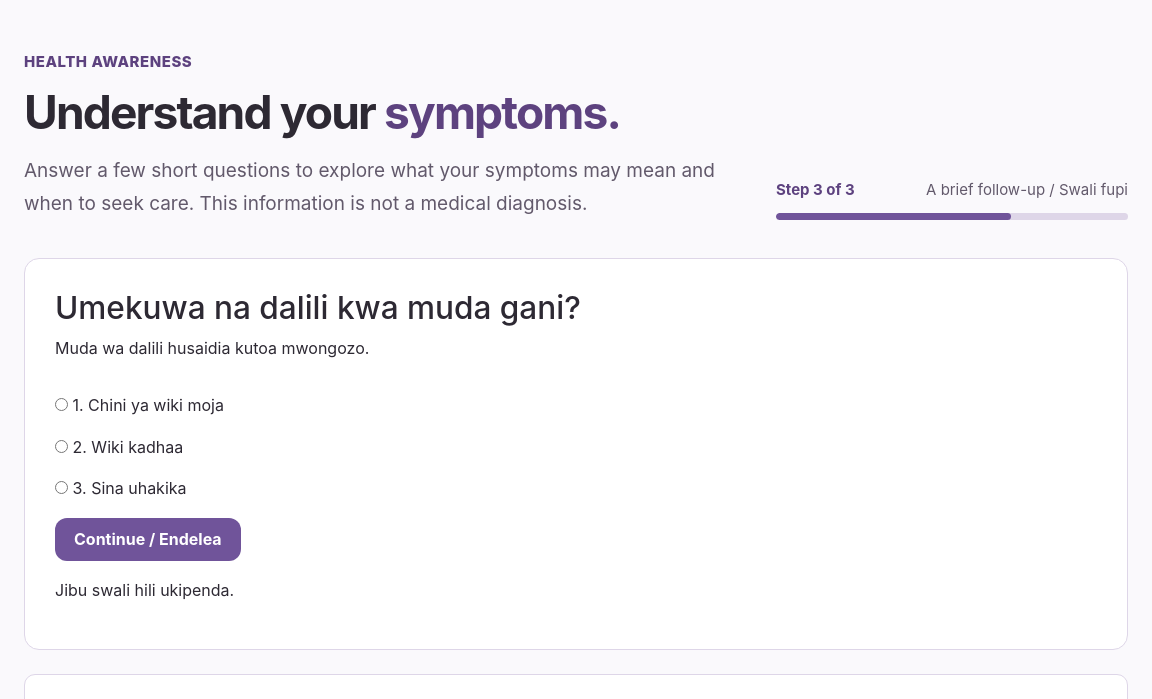
Test: Targeted assessment follow-ups › turns follow-up answers into a backend selected possibility and practical next steps
Click the radio button labelled "1. Chini ya wiki moja" at (62, 405), box x1=55 y1=398 x2=68 y2=411
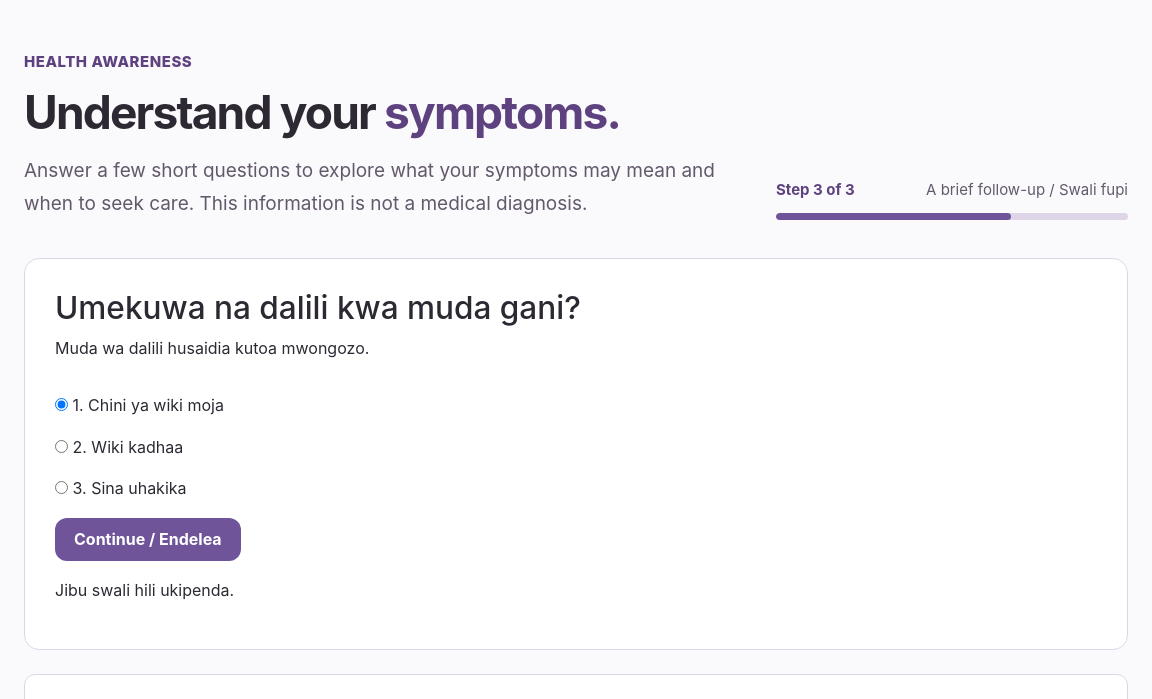
Click the button "Continue / Endelea" at (148, 539), box x1=55 y1=518 x2=241 y2=561
(page scrolled)
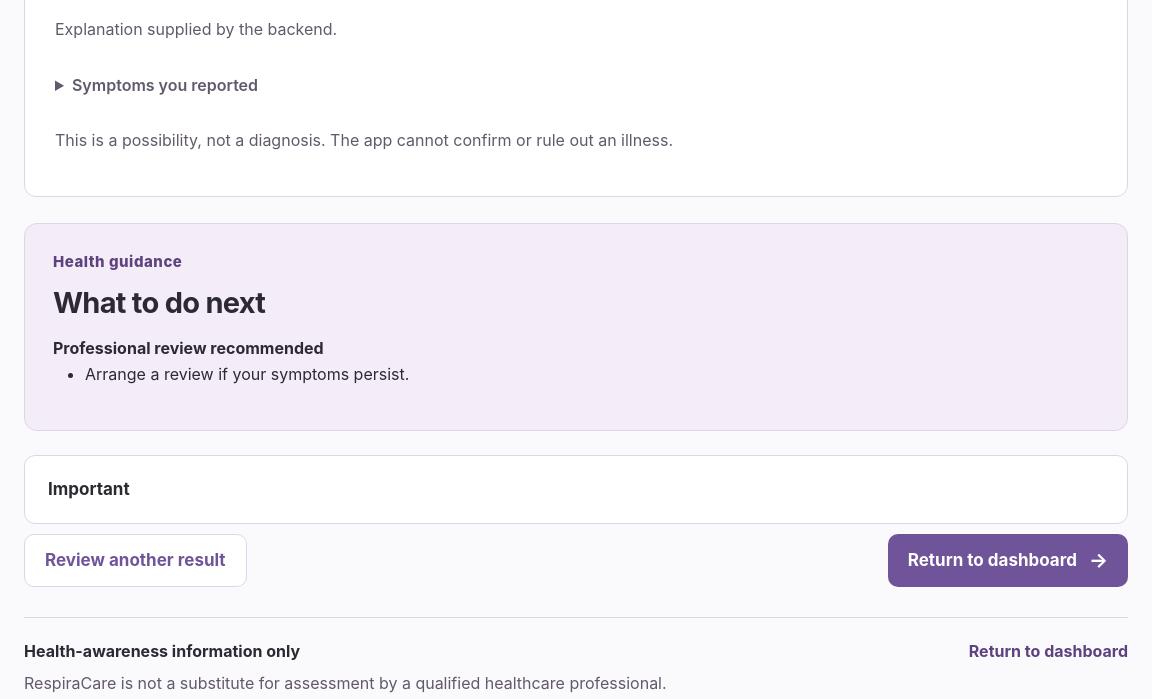
Expected: the list item "Arrange a review if your symptoms persist." is shown, x1=85 y1=364 x2=409 y2=384
Expected: the text "Professional review recommended" is shown, x1=53 y1=338 x2=324 y2=358
